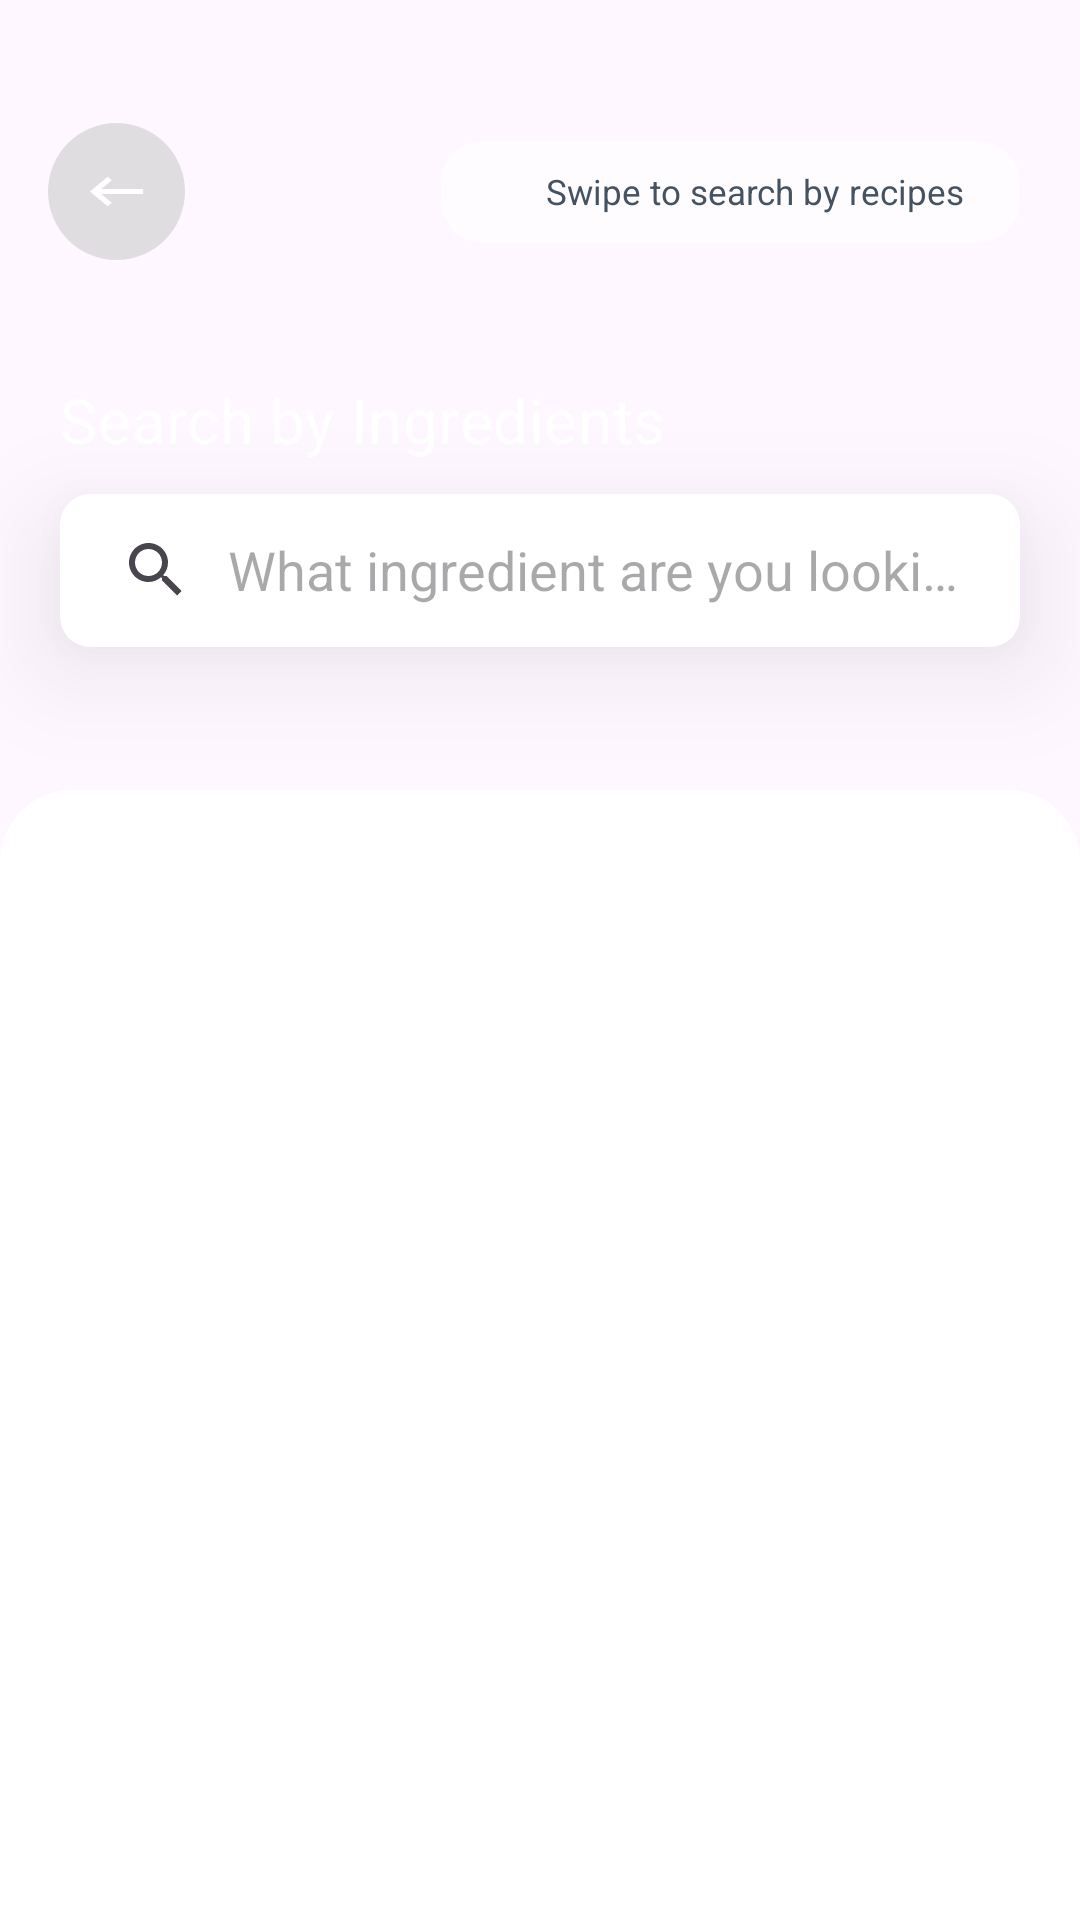

Where to tap for icons on this 1080 × 1920 app screen, as [x,y]:
back: [116,191]
